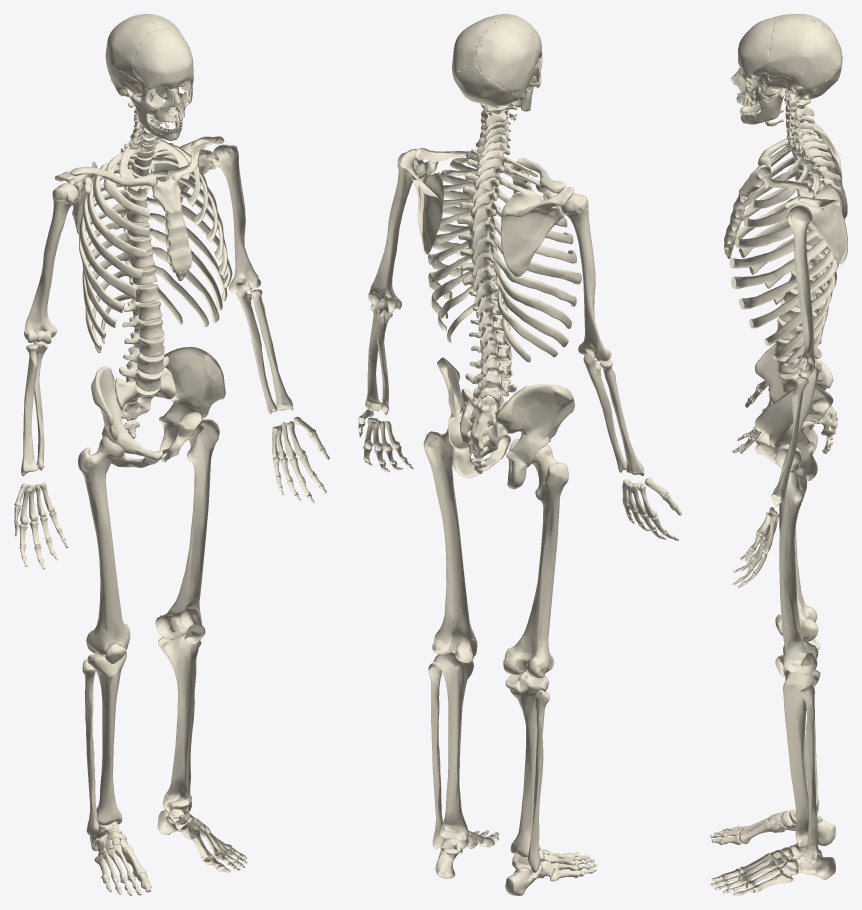
File: anatomy-skeleton-v1.glb
3 renders of one model, left to right at view 1: azimuth 30°, elevation 25°; view 2: azimuth 150°, elevation 25°; view 3: azimuth 270°, elevation 25°, orthographic. The views are drawn at different scales.
Parts seen in each view (by area): view 1: skeleton.femurr, skeleton.femurl, skeleton.hip_bonel, skeleton.tibial, skeleton.frontal_bone, skeleton.tibiar, skeleton.humerusr, skeleton.humerusl, skeleton.hip_boner, skeleton.parietal_boner, skeleton.sacrum, skeleton.fibular (+20 smaller); view 2: skeleton.femurr, skeleton.femurl, skeleton.hip_boner, skeleton.scapular, skeleton.parietal_boner, skeleton.tibial, skeleton.tibiar, skeleton.humerusr, skeleton.humerusl, skeleton.hip_bonel, skeleton.scapulal, skeleton.sacrum (+15 smaller); view 3: skeleton.femurl, skeleton.parietal_bonel, skeleton.tibial, skeleton.hip_bonel, skeleton.humerusl, skeleton.scapulal, skeleton.fibulal, skeleton.hip_boner, skeleton.frontal_bone, skeleton.radiusl, skeleton.femurr, skeleton.seventh_ribl (+27 smaller).
Part boxes in pixels (box(x1,y1,x2,y2)): skeleton.femurr: box(78, 436, 130, 655); skeleton.femurl: box(155, 419, 219, 639); skeleton.hip_bonel: box(158, 347, 225, 462); skeleton.tibial: box(158, 633, 200, 811); skeleton.frontal_bone: box(133, 28, 193, 91); skeleton.tibiar: box(87, 652, 126, 825); skeleton.humerusr: box(24, 183, 78, 344); skeleton.humerusl: box(212, 144, 260, 296); skeleton.hip_boner: box(91, 366, 162, 467); skeleton.parietal_boner: box(105, 14, 157, 79); skeleton.sacrum: box(115, 367, 175, 420); skeleton.fibular: box(82, 659, 99, 835); skeleton.femurr: box(503, 444, 568, 678); skeleton.femurl: box(423, 428, 477, 662); skeleton.hip_boner: box(495, 384, 574, 489); skeleton.scapular: box(500, 187, 573, 276); skeleton.parietal_boner: box(474, 16, 539, 93); skeleton.tibial: box(433, 652, 473, 840); skeleton.tibiar: box(505, 671, 548, 857); skeleton.humerusr: box(561, 193, 611, 361); skeleton.humerusl: box(368, 152, 423, 312); skeleton.hip_bonel: box(437, 357, 510, 477); skeleton.scapulal: box(400, 149, 443, 254); skeleton.sacrum: box(459, 388, 507, 458); skeleton.femurl: box(775, 448, 818, 674); skeleton.parietal_bonel: box(763, 17, 840, 89); skeleton.tibial: box(783, 669, 820, 846); skeleton.hip_bonel: box(755, 386, 833, 480); skeleton.humerusl: box(786, 205, 815, 377); skeleton.scapulal: box(785, 183, 847, 264); skeleton.fibulal: box(800, 684, 818, 863); skeleton.hip_boner: box(755, 343, 833, 453); skeleton.frontal_bone: box(738, 17, 774, 78); skeleton.radiusl: box(771, 377, 808, 506); skeleton.femurr: box(779, 470, 818, 641); skeleton.seventh_ribl: box(739, 249, 834, 309).
Size of the model in its own units: 0.6692 by 1.7 by 0.2501.
